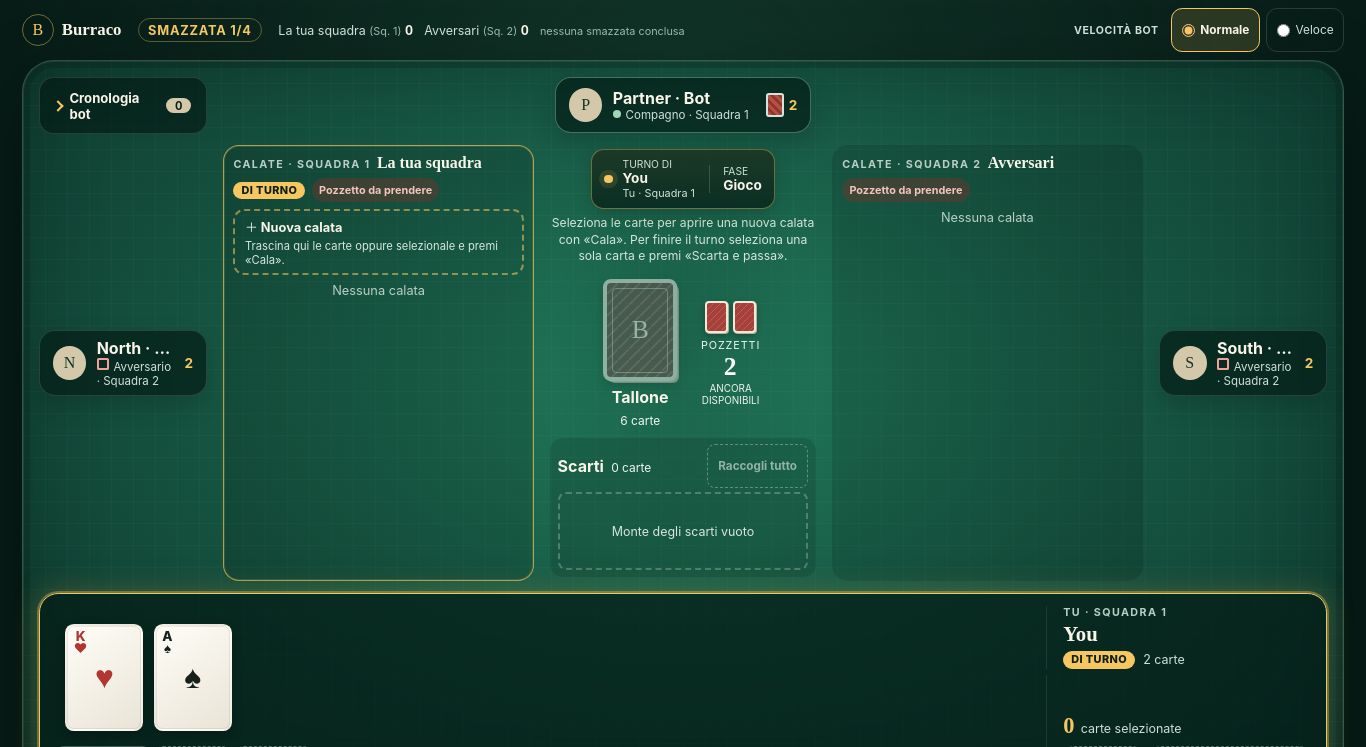
Test: GameTable M24 visual feedback › leaves no cue after Completa subito and no pending timer once control returns
Click the button "K ♥ ♥". click: (104, 677)
box: left=65, top=624, right=143, bottom=731
(page scrolled)
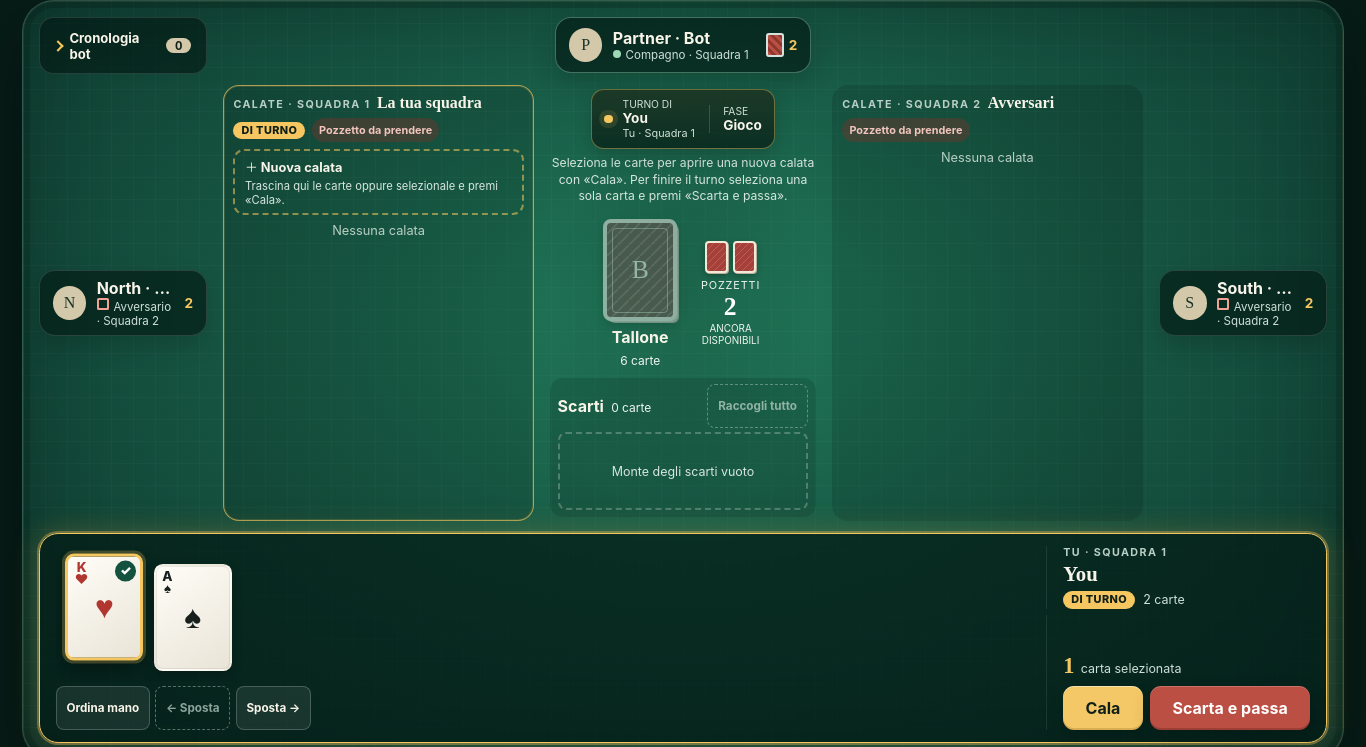
Click the button "Scarta e passa". click: (1230, 708)
box: left=1150, top=686, right=1310, bottom=730
Wait 1200 ms
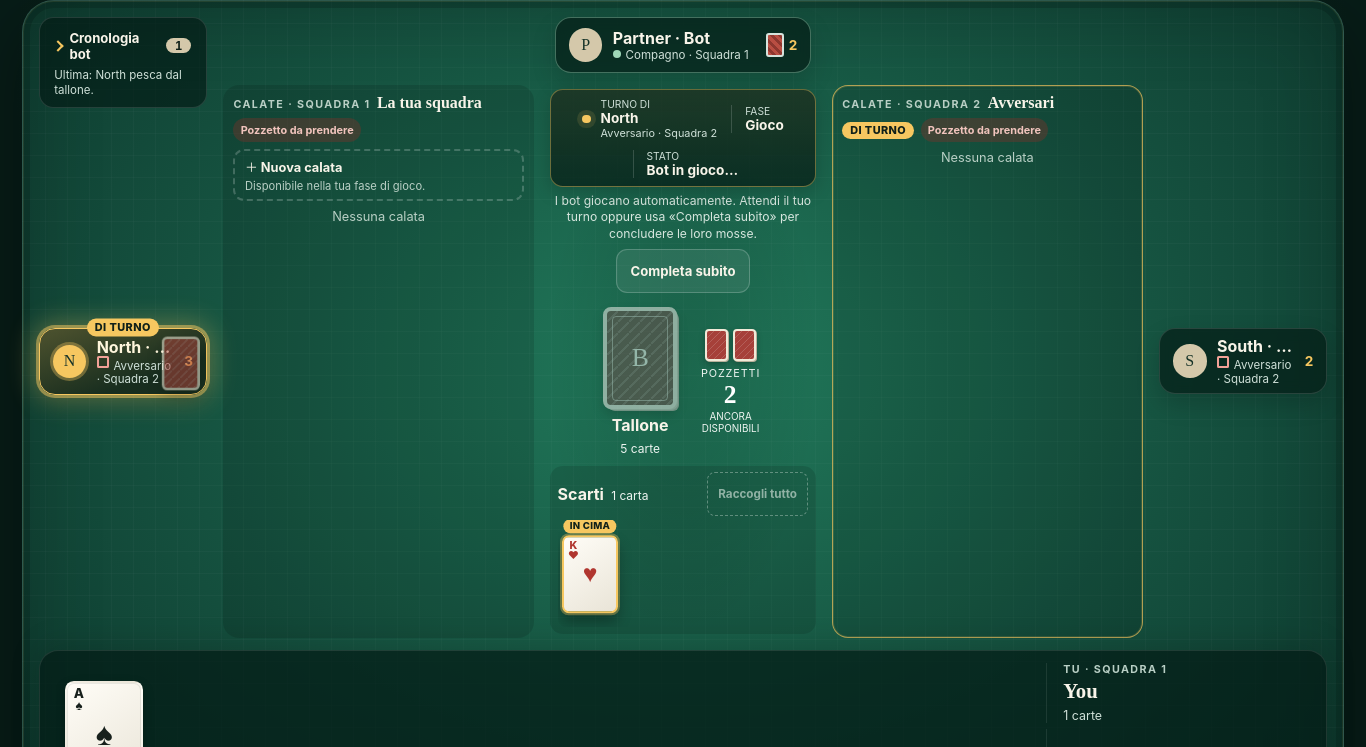
Click the button "Completa subito". click: (683, 271)
box: left=616, top=249, right=750, bottom=293
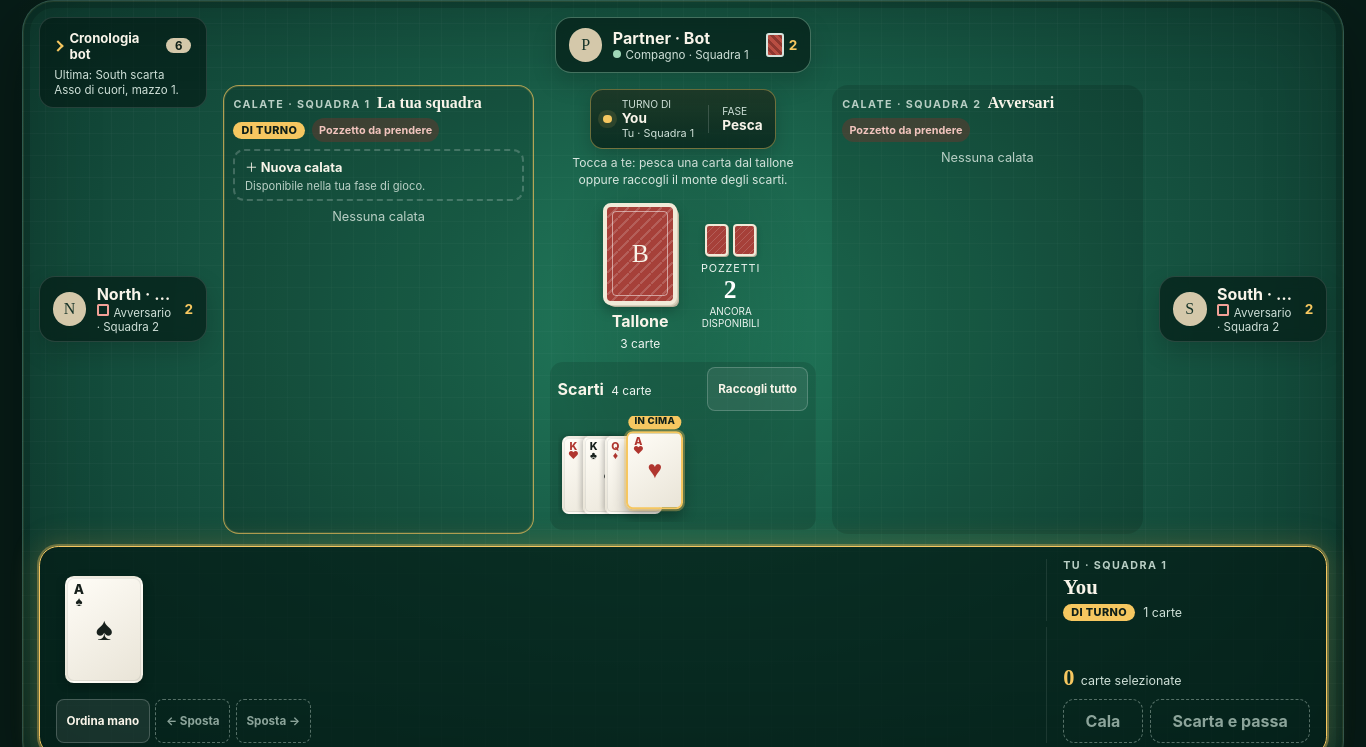
Check: the text "Completa subito" is gone
Check: the element showing "Turno di You Tu · Squadra 1 Fase Pesca" is shown, box left=590, top=89, right=776, bottom=149
